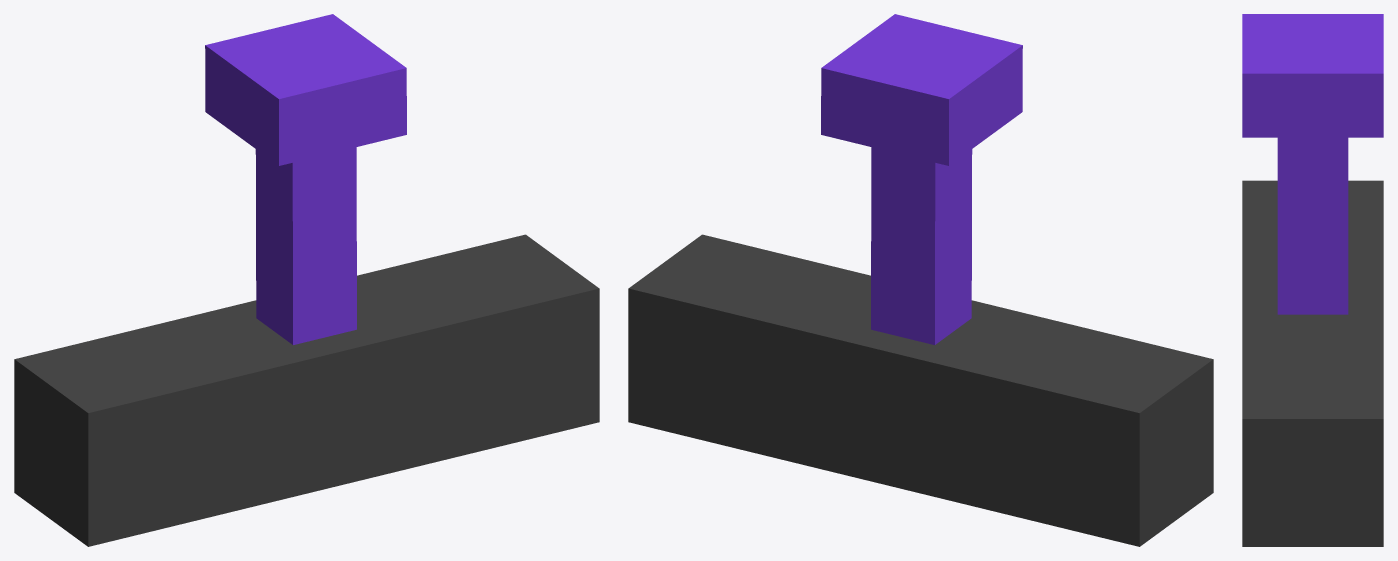
The model's file is SimpleGrabberV2.fbx.
3 views of the same model, side by side, from view 1: azimuth 30°, elevation 25°; view 2: azimuth 150°, elevation 25°; view 3: azimuth 270°, elevation 25° (orthographic). The views are drawn at different scales.
Parts seen in each view (by area): view 1: Base, Grabber; view 2: Base, Grabber; view 3: Base, Grabber.
Boxes of the visible parts, box(x1,y1,x2,y2) form: Base: box(14, 234, 599, 546); Grabber: box(205, 14, 406, 344); Base: box(628, 234, 1213, 546); Grabber: box(821, 14, 1022, 344); Base: box(1242, 180, 1383, 546); Grabber: box(1242, 14, 1383, 314).
Size of the model in its own units: 800 by 600 by 200.
